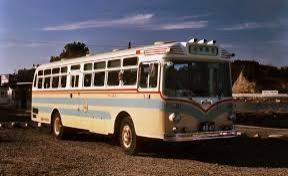bus: (31, 37, 239, 153)
